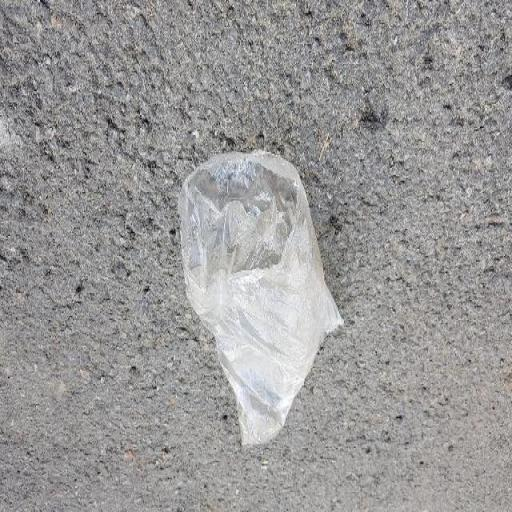plastic-bag: (175, 143, 347, 455)
